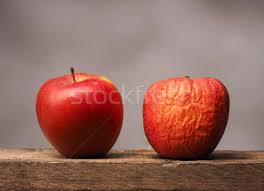apple: (31, 71, 131, 158), (145, 78, 226, 155)
